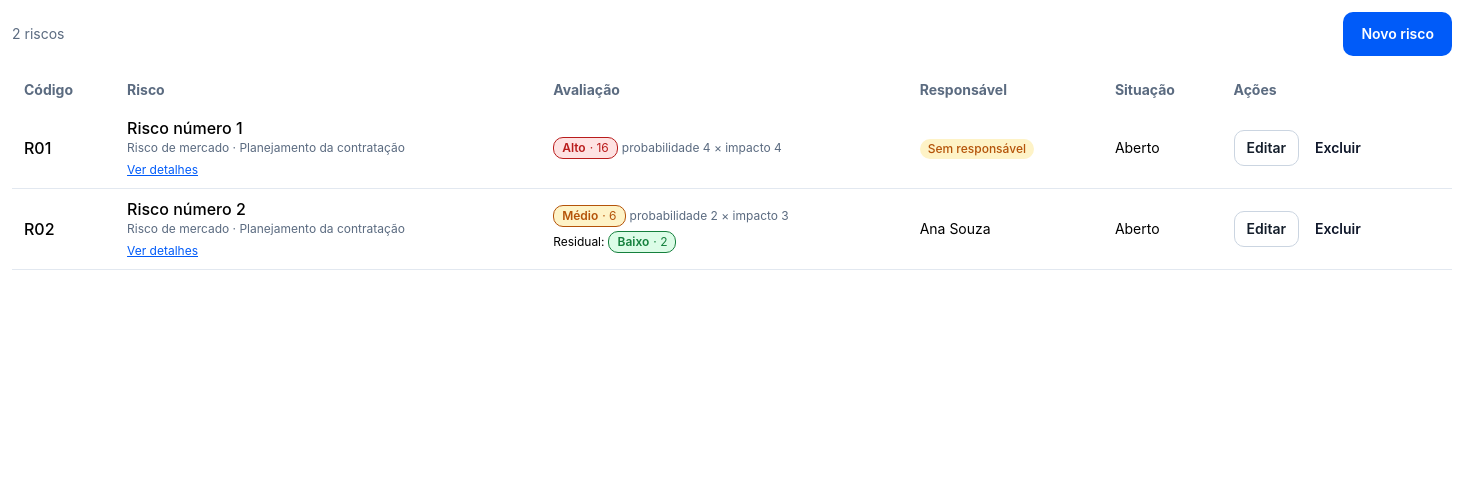
SCR-011 · lista de riscos (US-033) › lista com nível em texto, responsável ("Sem responsável" — FA-03) e detalhes
The width and height of the screenshot is (1464, 502).
Expected: the text "Risco número 1" is shown, [127,118,242,138]
Expected: the text "2 riscos" is shown, [12,24,64,44]
Click the button with aria-label "Ver detalhes R02" at (162, 251), box [127,243,198,259]
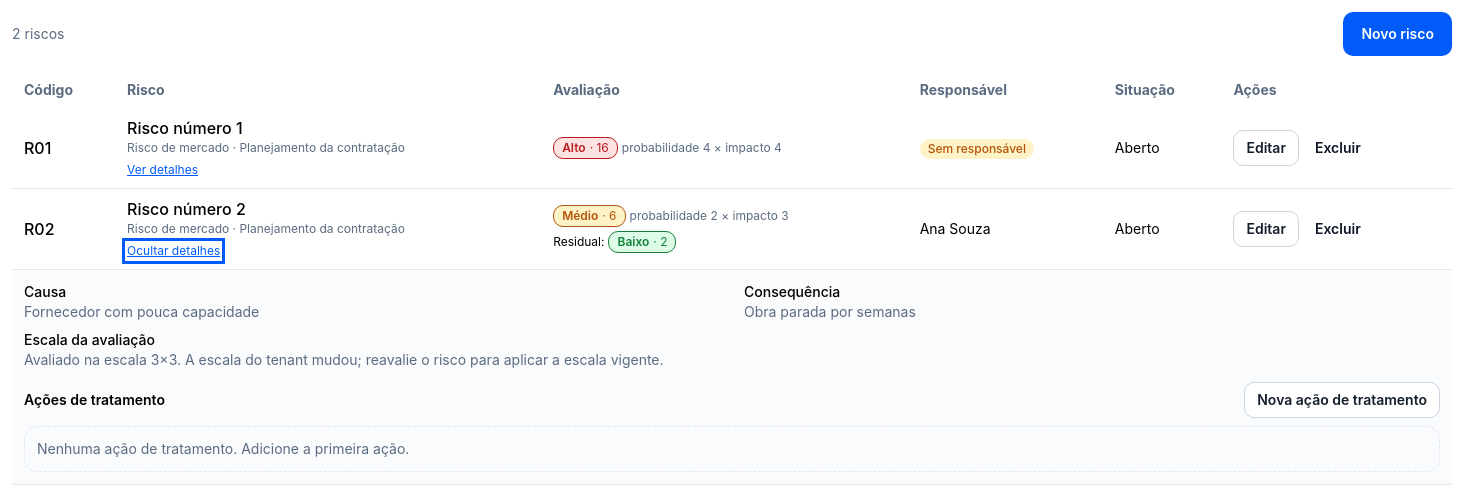
Expected: the text "Avaliado na escala 3×3. A escala do tenant mudou; reavalie o risco para aplicar a escala vigente." is shown, [24,350,720,370]
Expected: the text "Nenhuma ação de tratamento. Adicione a primeira ação." is shown, [24,426,1440,472]
